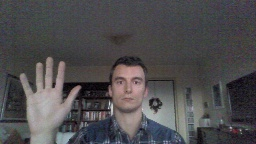Mano_aperta: (17, 54, 82, 134)
